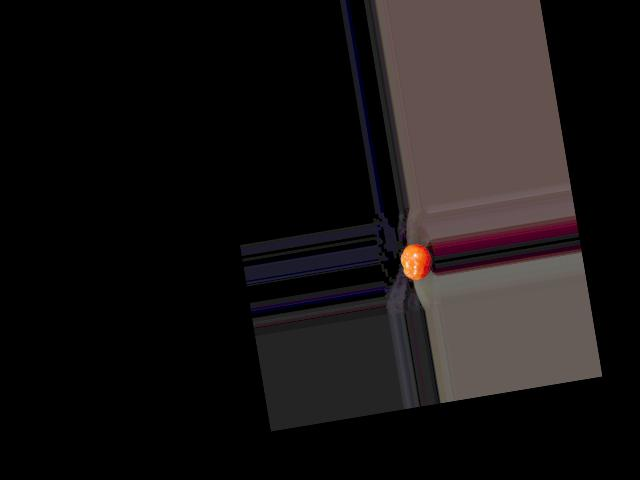tomato: (398, 241, 434, 281)
